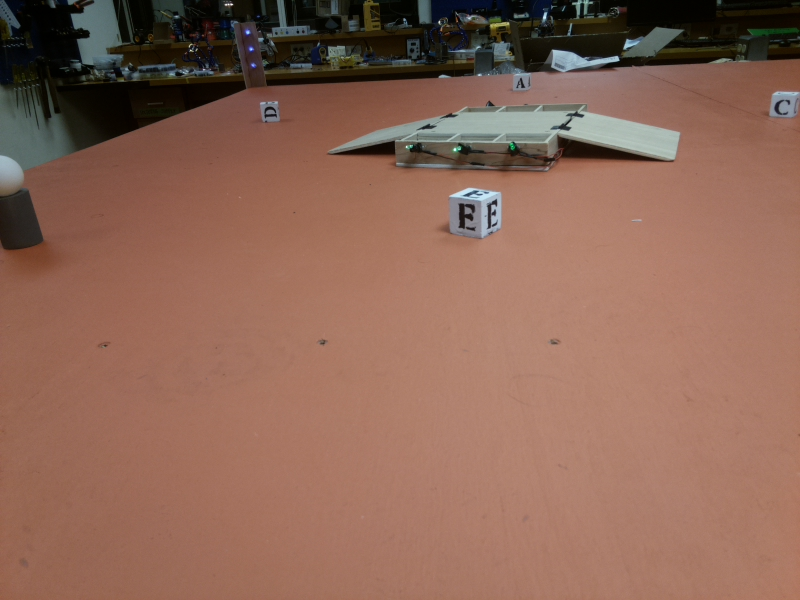blockA: (511, 73, 533, 90)
blockC: (770, 93, 799, 122)
blockD: (259, 99, 280, 122)
blockE: (448, 184, 501, 239)
corner: (235, 17, 267, 84)
obstacle: (2, 156, 42, 256)
side: (392, 137, 551, 171), (462, 98, 591, 110)
slope: (557, 111, 679, 171), (328, 110, 439, 159)
